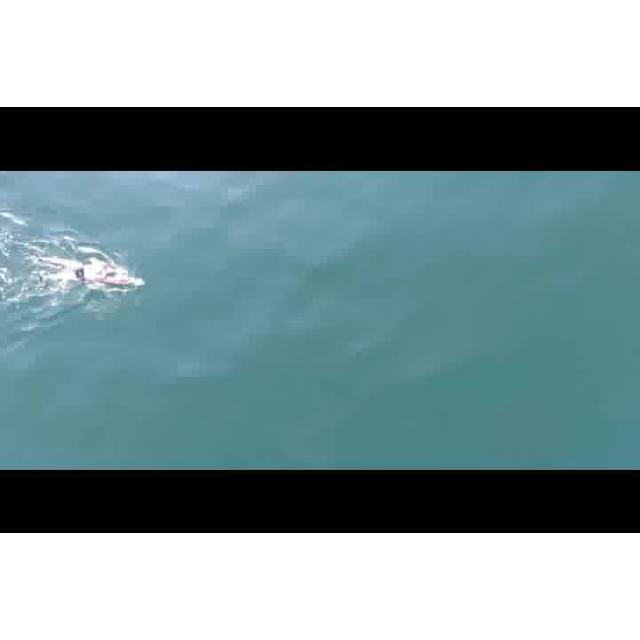human: (33, 254, 147, 295)
